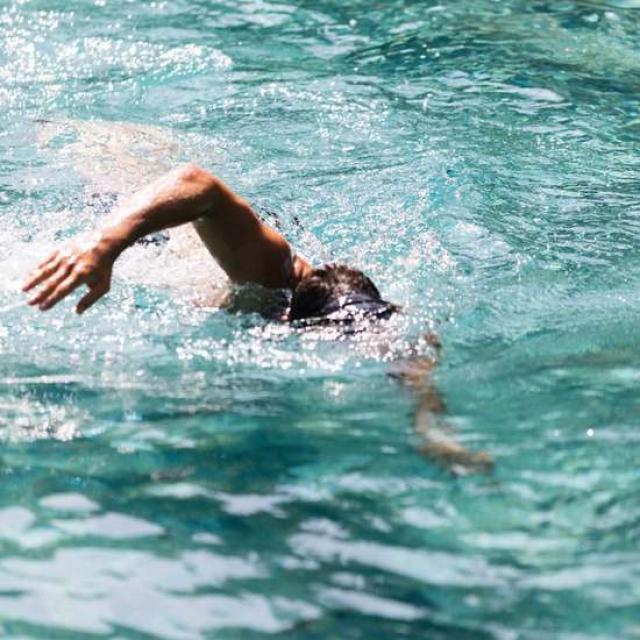Swimming: (28, 153, 506, 481)
